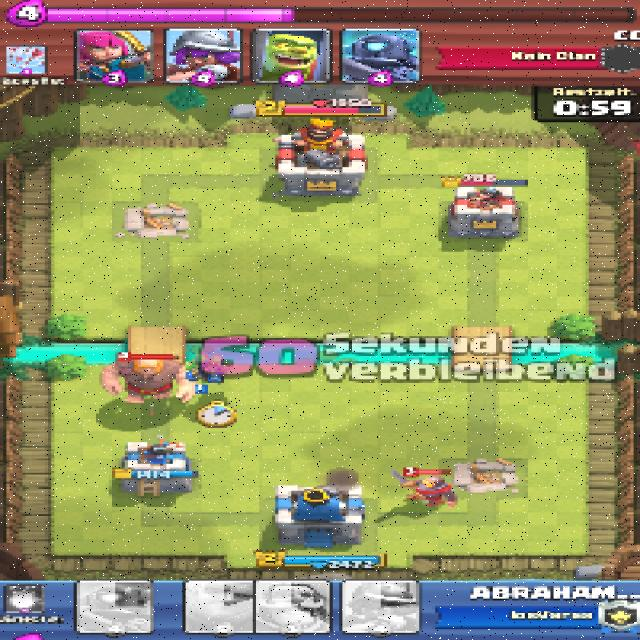Enemy-Giant: (96, 358, 200, 406)
Enemy-Knight: (398, 476, 459, 510)
